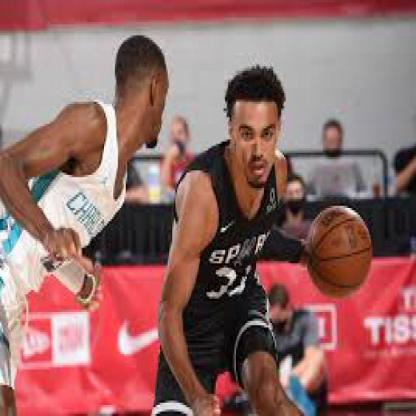basketball: (306, 208, 373, 296)
